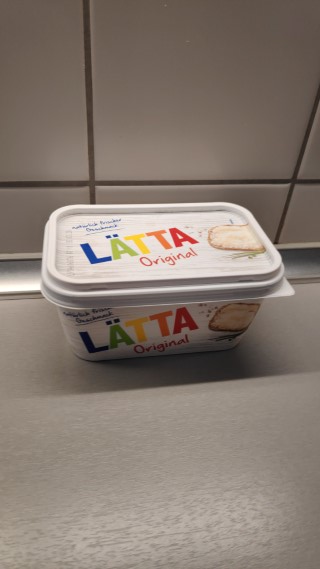laetta: (39, 199, 295, 361)
